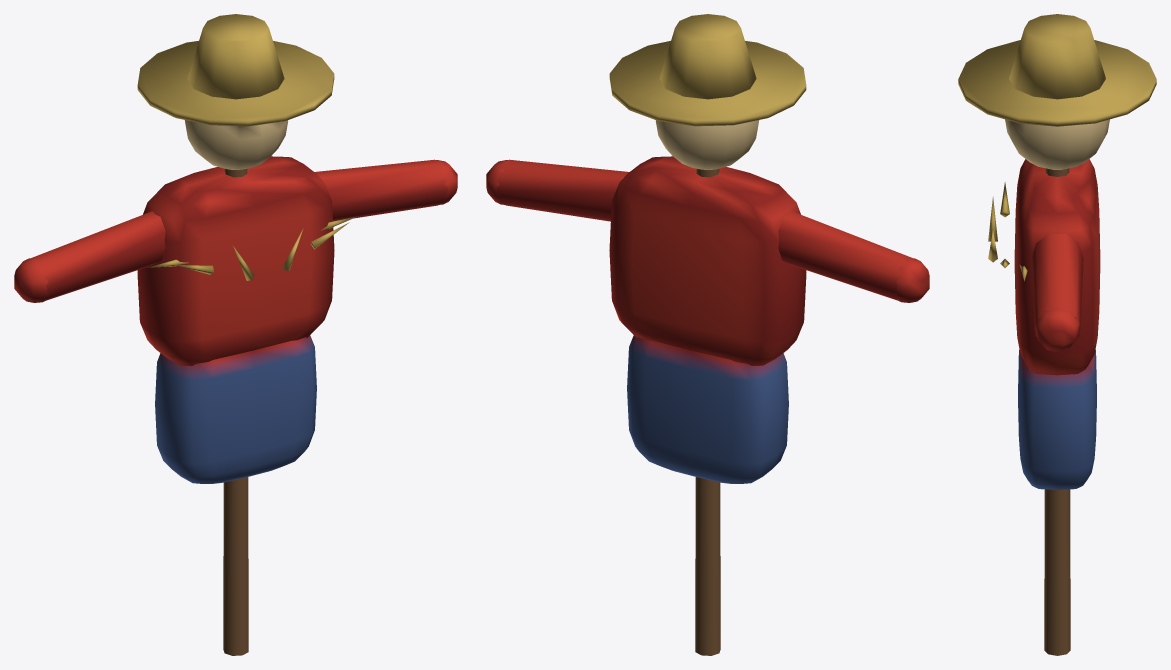
The model's file is Scarecrow.glb.
3 renders of one model, left to right at view 1: azimuth 30°, elevation 25°; view 2: azimuth 150°, elevation 25°; view 3: azimuth 270°, elevation 25°, orthographic.
Visible parts, largest first — view 1: Clothes, Straw, Post, Sack; view 2: Clothes, Straw, Post, Sack; view 3: Clothes, Straw, Post, Sack.
Boxes of the visible parts, x1,y1,x2,y2 form: Clothes: (14, 156, 457, 483); Straw: (137, 14, 357, 280); Post: (223, 169, 248, 655); Sack: (184, 120, 288, 169); Clothes: (486, 156, 929, 483); Straw: (609, 14, 806, 126); Post: (695, 169, 720, 655); Sack: (655, 120, 759, 169); Clothes: (1014, 159, 1100, 489); Straw: (958, 14, 1156, 281); Post: (1044, 168, 1070, 655); Sack: (1005, 119, 1109, 169).
Bounding box in the file's own units: 1.53 × 2.08 × 0.6.
